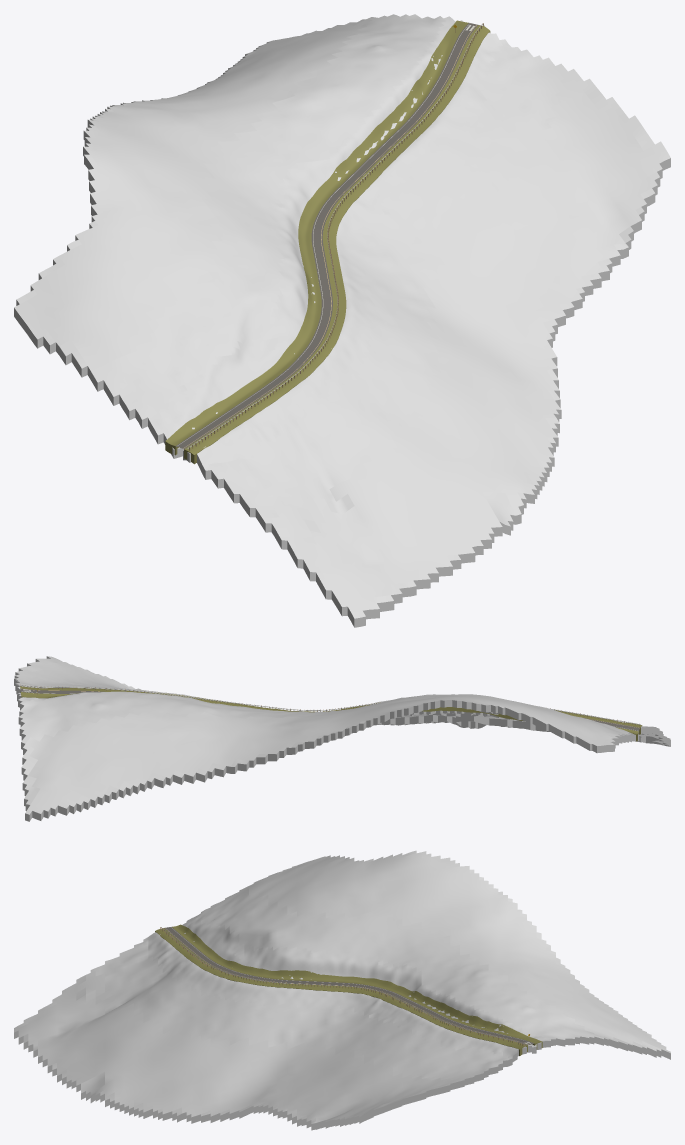
Rendered from conz_14.glb.
The picture shows the model from 3 angles, top to bottom: view 1: azimuth 30°, elevation 25°; view 2: azimuth 150°, elevation 25°; view 3: azimuth 270°, elevation 25°; orthographic projection. The views are drawn at different scales.
Parts seen in each view (by area): view 1: terrain14, verge14R, verge14L, road14, posts14_11040; view 2: terrain14, verge14L, beam14_11040, verge14R, road14; view 3: terrain14, verge14R, verge14L, road14, posts14_11040.
Part boxes in pixels (x1,y1,x2,y2): terrain14: (14,14,670,627); verge14R: (165,20,468,455); verge14L: (184,25,490,464); road14: (176,23,477,448); posts14_11040: (189,23,483,450); terrain14: (14,656,670,821); verge14L: (20,686,642,734); beam14_11040: (20,685,640,724); verge14R: (21,692,638,741); road14: (20,688,639,731); terrain14: (14,850,670,1130); verge14R: (172,924,542,1049); verge14L: (155,928,527,1055); road14: (164,927,533,1045); posts14_11040: (160,927,525,1046).
Size of the model in its own units: 234 by 87.53 by 274.
